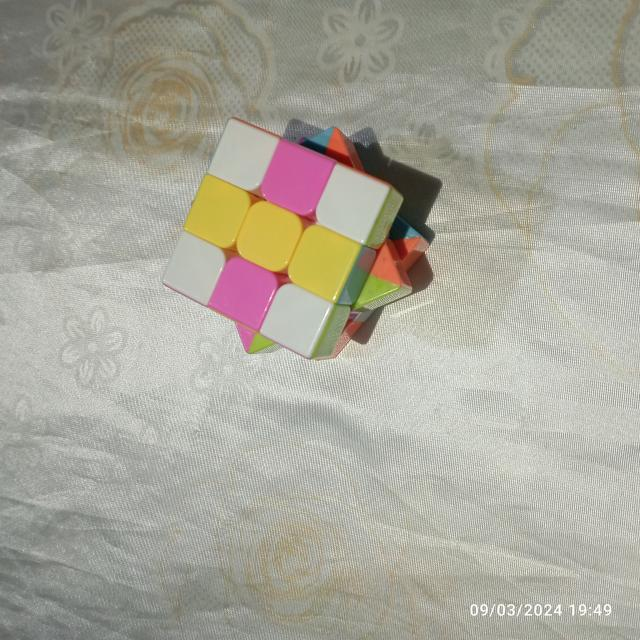Rub: (160, 117, 430, 368)
